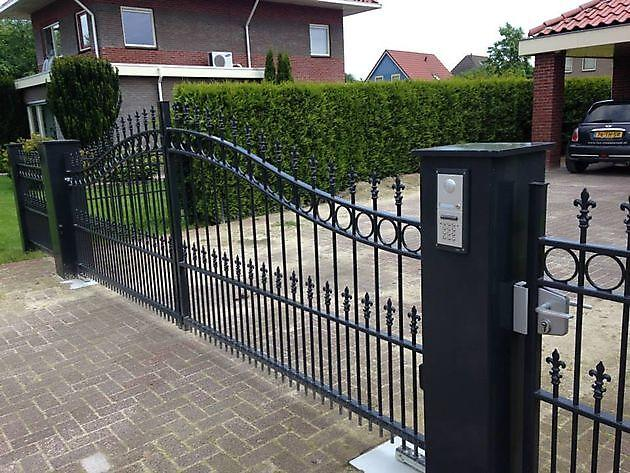obstacle: (18, 67, 630, 427)
